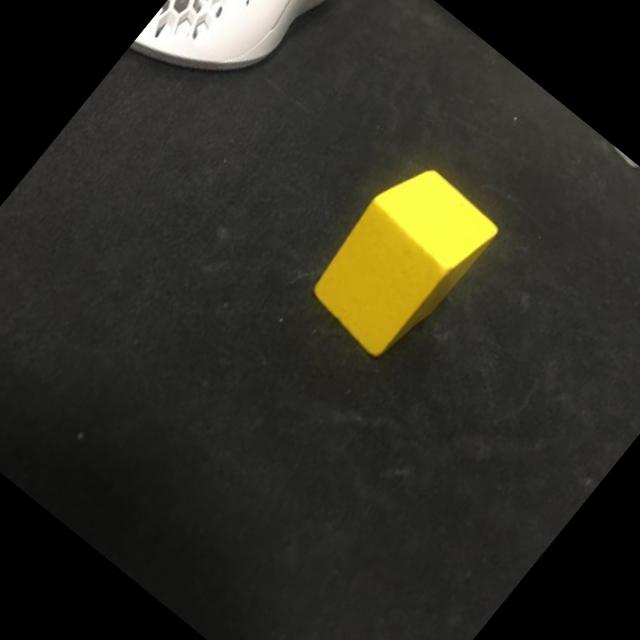yellow: (297, 152, 503, 368)
